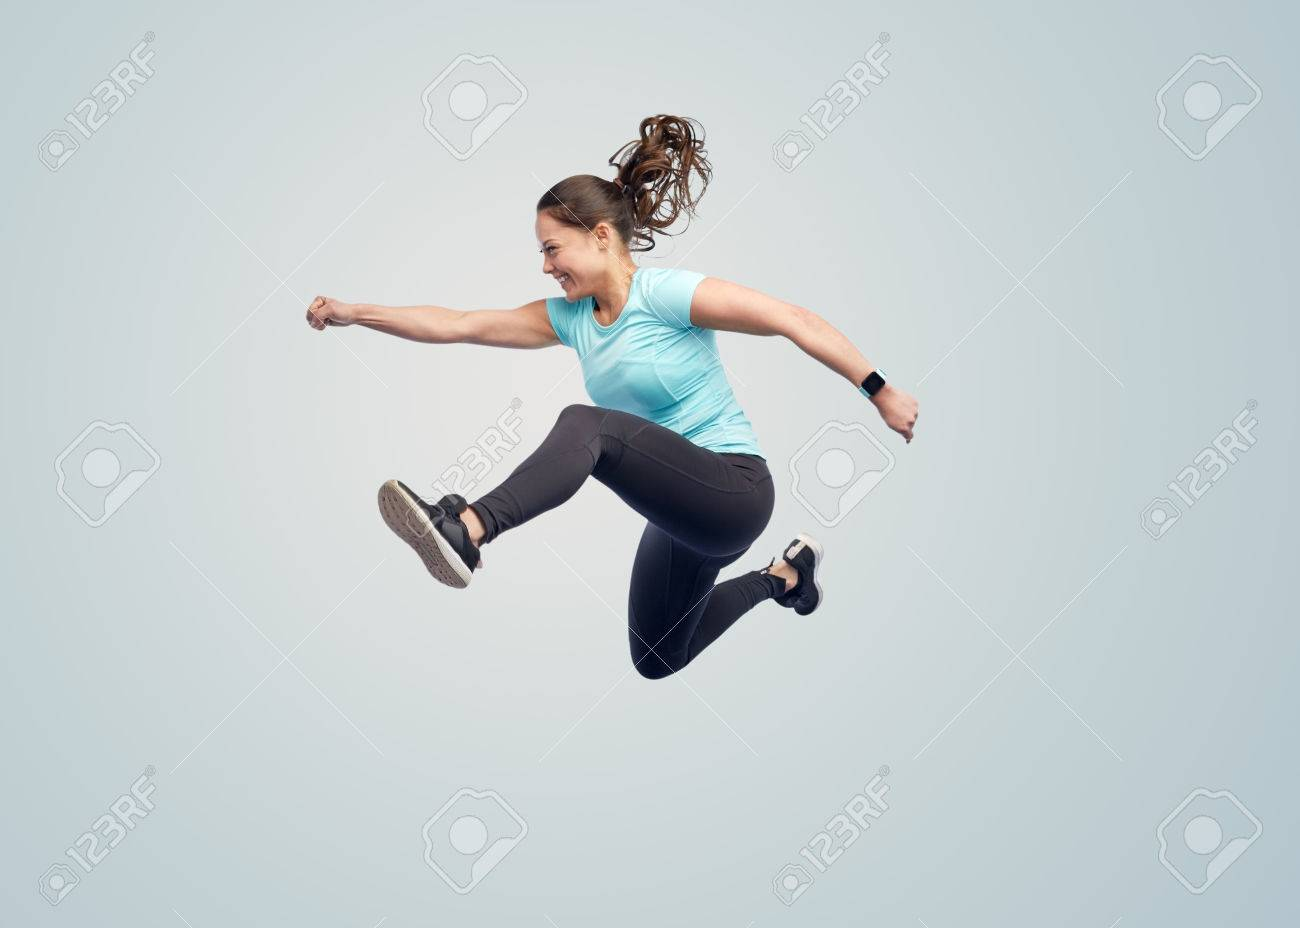Person: (284, 116, 940, 697)
